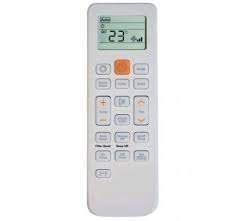remote control: (87, 7, 159, 218)
